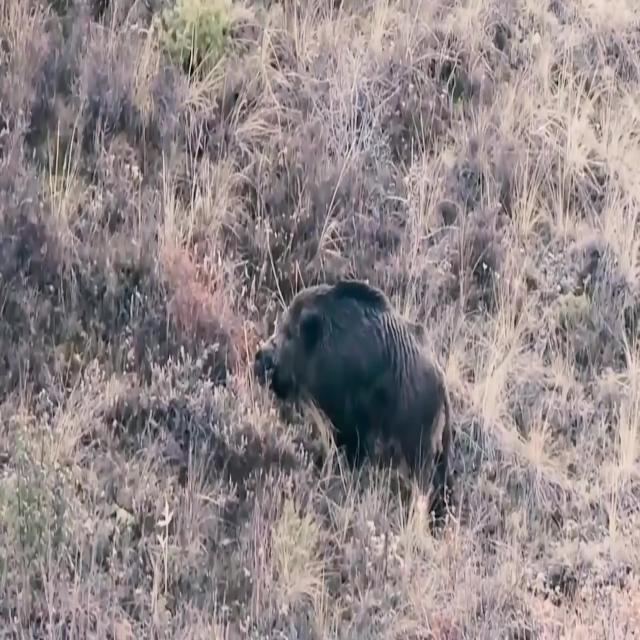pig: (236, 233, 468, 526)
